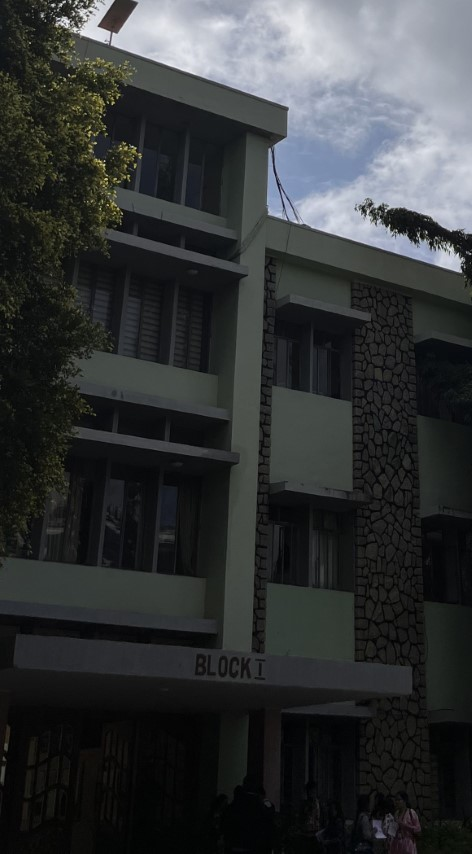Block 1: (122, 50, 467, 752)
